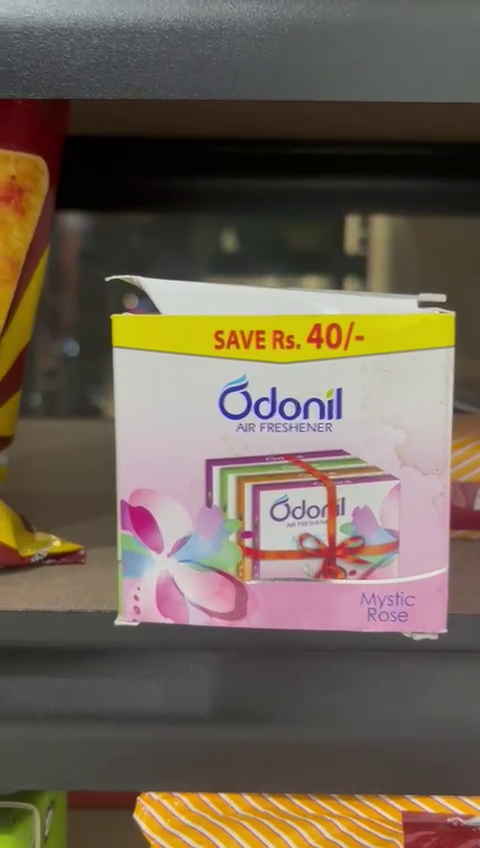Odonil: (98, 272, 463, 635)
